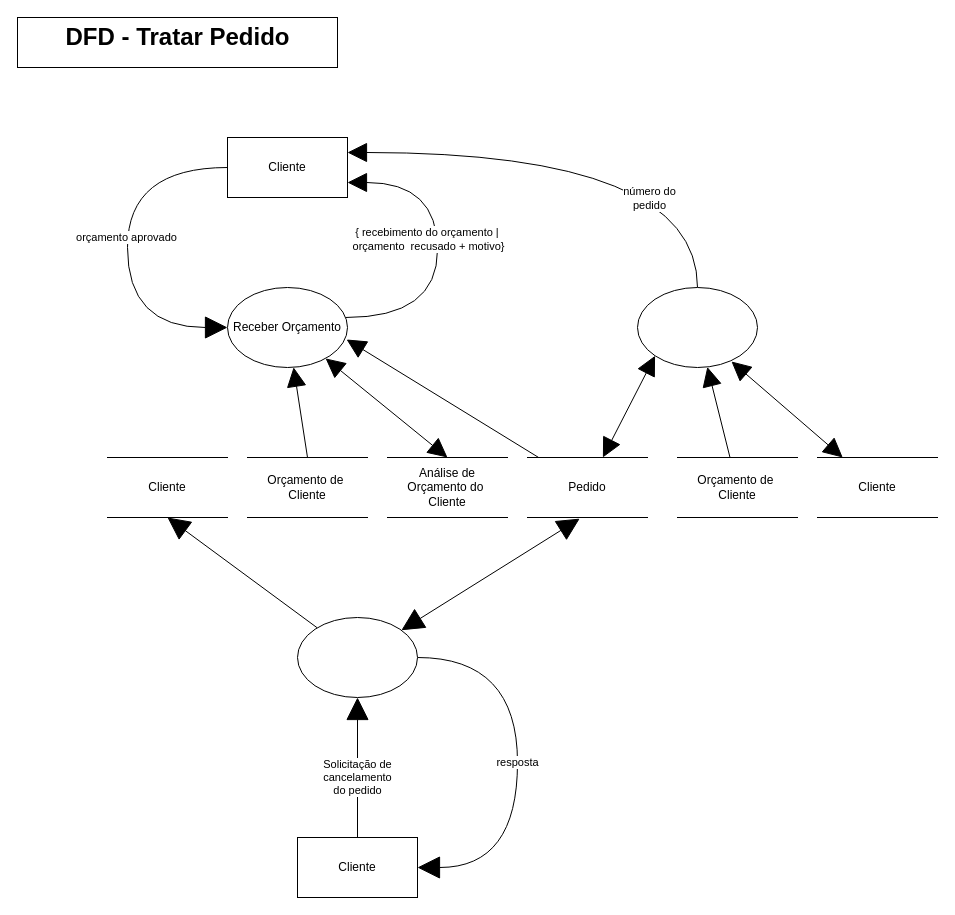
Some shapes in this 955 by 915 pixel diagram are drawn without their labels. The centre of each missing label's shape, as x and y in pixels:
Cancelar Pedido: [357,657]
Gerar Pedido: [697,327]
